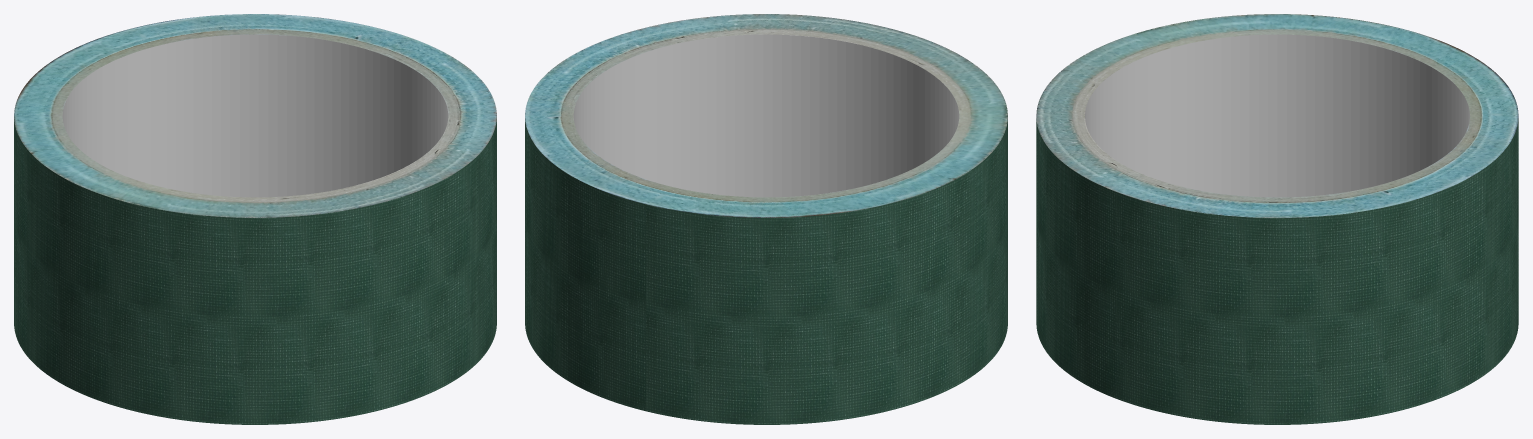
The model's file is opp.glb.
3 renders of one model, left to right at view 1: azimuth 30°, elevation 25°; view 2: azimuth 150°, elevation 25°; view 3: azimuth 270°, elevation 25°, orthographic.
Visible parts, largest first — view 1: Cylinder.001; view 2: Cylinder.001; view 3: Cylinder.001.
Part boxes in pixels (x1,y1,x2,y2): Cylinder.001: (14,14,496,424); Cylinder.001: (525,14,1007,424); Cylinder.001: (1036,14,1518,424).
Size of the model in its own units: 0.9985 by 0.4723 by 0.9974.
4 materials, 3 textured.
